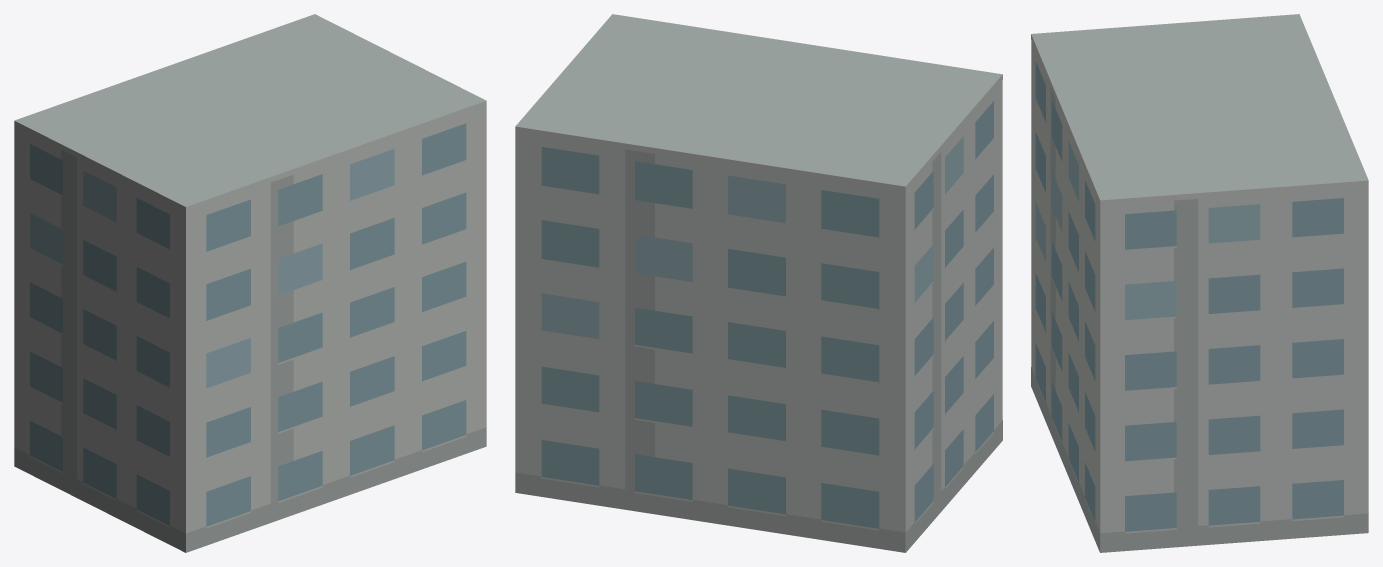
File: residential-760470ec-b202-46b8-809f-30dbc23e6ec1.glb
3 views of the same model, side by side, from view 1: azimuth 30°, elevation 25°; view 2: azimuth 150°, elevation 25°; view 3: azimuth 270°, elevation 25° (orthographic). The views are drawn at different scales.
Parts seen in each view (by area): view 1: residential-760470ec-b202-46b8-809f-30dbc23e6ec1.tmp; view 2: residential-760470ec-b202-46b8-809f-30dbc23e6ec1.tmp; view 3: residential-760470ec-b202-46b8-809f-30dbc23e6ec1.tmp.
Part boxes in pixels (x1,y1,x2,y2): residential-760470ec-b202-46b8-809f-30dbc23e6ec1.tmp: (14, 14, 486, 552); residential-760470ec-b202-46b8-809f-30dbc23e6ec1.tmp: (515, 14, 1002, 552); residential-760470ec-b202-46b8-809f-30dbc23e6ec1.tmp: (1031, 14, 1368, 552).
Bounding box in the file's own units: 17.3 × 15.25 × 13.25.
